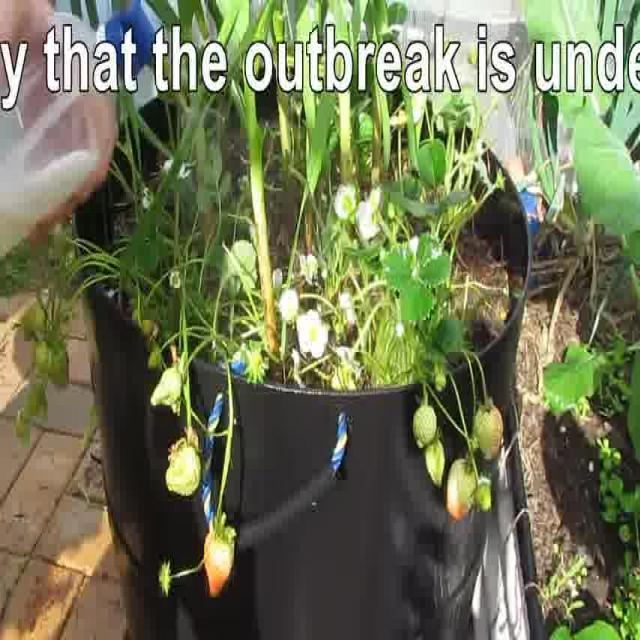Fruta sana: (203, 511, 237, 598), (166, 427, 202, 497), (150, 353, 187, 416), (475, 474, 493, 514), (158, 555, 174, 597), (331, 367, 358, 389), (147, 345, 163, 369), (436, 364, 446, 392), (470, 434, 480, 452)
Moho gris: (474, 394, 504, 461), (446, 458, 476, 522), (426, 427, 446, 489), (413, 406, 437, 448)
